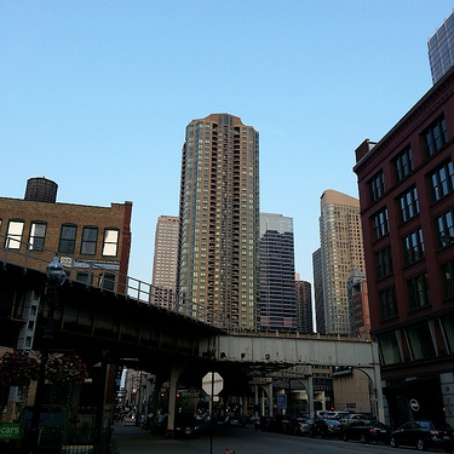bridge: (1, 253, 360, 382)
building: (350, 73, 454, 454), (1, 191, 139, 454), (180, 119, 262, 324), (313, 193, 365, 330), (253, 213, 299, 333), (150, 214, 186, 310)
sky: (1, 1, 420, 187)
